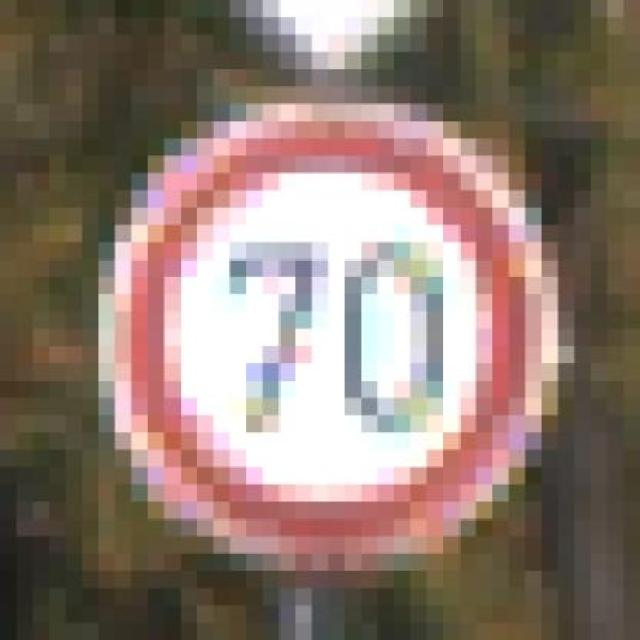forb_speed_over_70: (117, 111, 543, 557)
